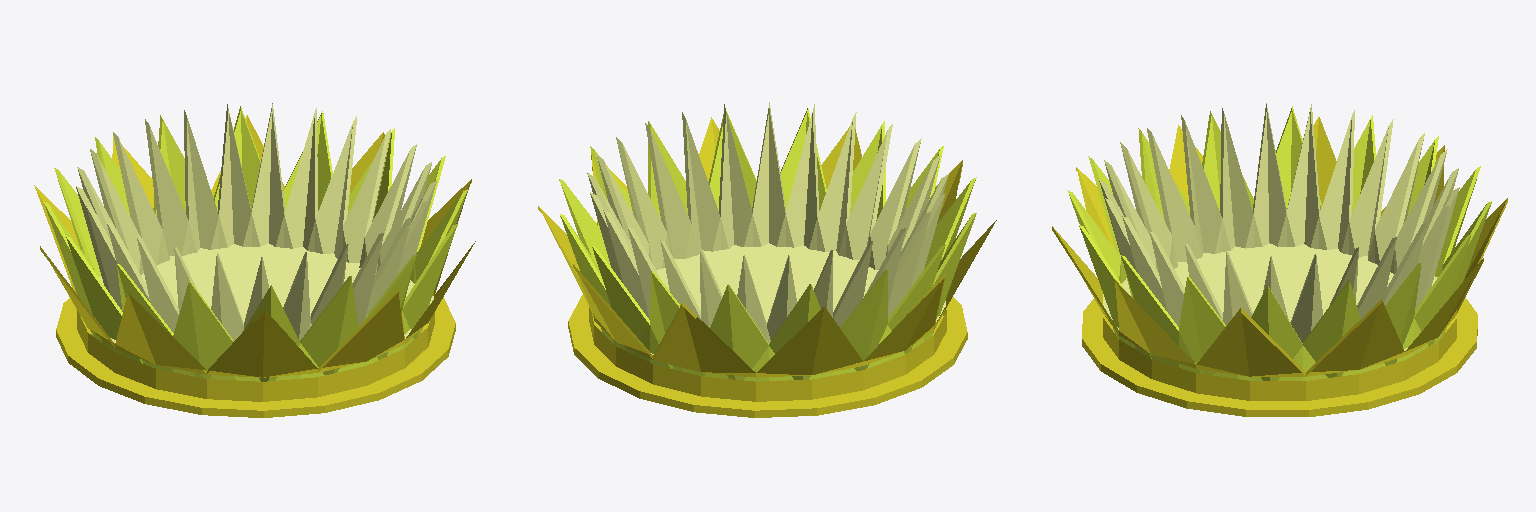
3 views of the same model, side by side, from view 1: azimuth 30°, elevation 25°; view 2: azimuth 150°, elevation 25°; view 3: azimuth 270°, elevation 25° (orthographic).
Parts seen in each view (by area): view 1: Cylinder.001, pCylinder1, Cylinder; view 2: Cylinder.001, pCylinder1, Cylinder; view 3: pCylinder1, Cylinder.001, Cylinder.
Boxes of the visible parts, x1=… form: Cylinder.001: x1=76, y1=103, x2=436, y2=340; pCylinder1: x1=34, y1=115, x2=475, y2=417; Cylinder: x1=44, y1=106, x2=467, y2=381; Cylinder.001: x1=587, y1=102, x2=948, y2=343; pCylinder1: x1=538, y1=117, x2=996, y2=417; Cylinder: x1=559, y1=108, x2=976, y2=381; pCylinder1: x1=1052, y1=117, x2=1507, y2=416; Cylinder.001: x1=1099, y1=103, x2=1459, y2=342; Cylinder: x1=1067, y1=106, x2=1491, y2=380.
Bounding box in the file's own units: 5.91 × 2.24 × 5.94.
Materials: 4 (3 with a texture image).